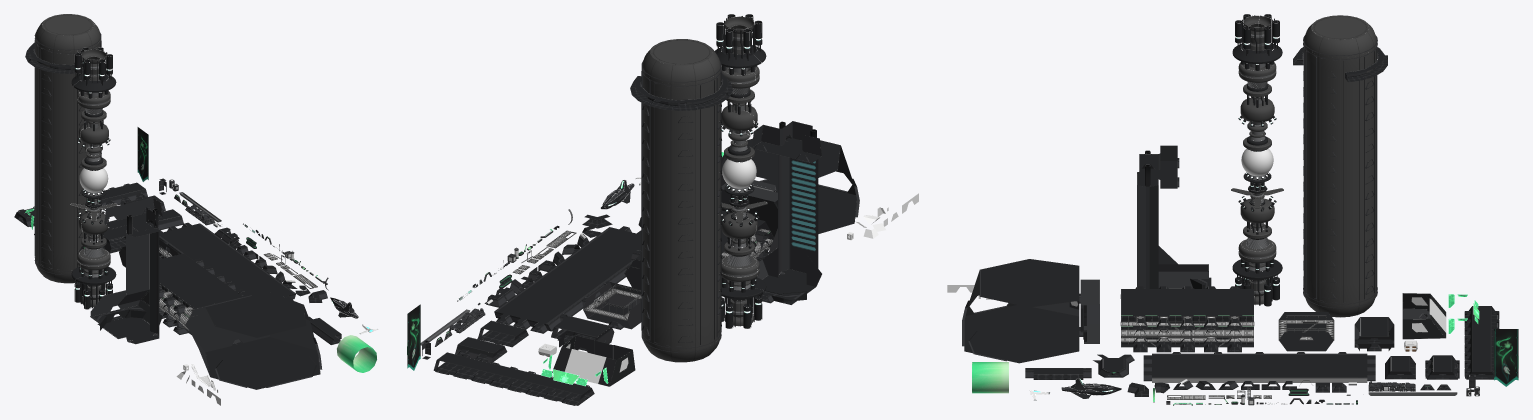
File: ShipEnvironment_Collection.fbx
3 views of the same model, side by side, from view 1: azimuth 30°, elevation 25°; view 2: azimuth 150°, elevation 25°; view 3: azimuth 270°, elevation 25° (orthographic). The views are drawn at different scales.
Parts seen in each view (by area): view 1: ReactorOuterShell.001, LobbyFloor.003, Hangar_Floor, Plane.011, Hangar_Ceiling, Ceiling_Storage, Reactor_Panels.001, Hangar_Wall, Ext_Thrusters.001, Wall_CutoutStorage, Hangar_WallSlants, ReactorCoreShell (+10 smaller); view 2: ReactorOuterShell.001, LobbyFloor.003, Plane.011, Reactor_Panels.001, Bridge_Border, Plane.020, Hangar_Floor, Plane.021, Hall_Circular, Hangar_Ceiling, ReactorCoreShell, WallMaskLobby (+19 smaller); view 3: ReactorOuterShell.001, Plane.011, Hangar_Floor, LobbyFloor.003, Hangar_Ceiling, Ceiling_Storage, Reactor_Panels.001, Wall_CutoutStorage, WallMaskLobby, Plane.021, Ext_Thrusters.001, Bridge_Border (+20 smaller).
Part boxes in pixels (left/top/right/bottom): ReactorOuterShell.001: left=35, top=14, right=100, bottom=283; LobbyFloor.003: left=90, top=197, right=162, bottom=344; Hangar_Floor: left=205, top=337, right=320, bottom=389; Plane.011: left=159, top=223, right=295, bottom=296; Hangar_Ceiling: left=205, top=291, right=306, bottom=337; Ceiling_Storage: left=159, top=253, right=242, bottom=308; Reactor_Panels.001: left=34, top=40, right=101, bottom=270; Hangar_Wall: left=191, top=307, right=269, bottom=352; Ext_Thrusters.001: left=337, top=335, right=376, bottom=372; Wall_CutoutStorage: left=159, top=258, right=244, bottom=334; Hangar_WallSlants: left=191, top=305, right=316, bottom=375; ReactorCoreShell: left=79, top=168, right=108, bottom=192; ReactorOuterShell.001: left=642, top=39, right=720, bottom=362; LobbyFloor.003: left=752, top=121, right=821, bottom=304; Plane.011: left=494, top=227, right=641, bottom=324; Reactor_Panels.001: left=641, top=70, right=721, bottom=346; Bridge_Border: left=552, top=336, right=635, bottom=386; Plane.020: left=434, top=362, right=589, bottom=405; Hangar_Floor: left=763, top=180, right=856, bottom=233; Plane.021: left=437, top=352, right=590, bottom=394; Hall_Circular: left=630, top=73, right=732, bottom=110; Hangar_Ceiling: left=721, top=138, right=840, bottom=181; ReactorCoreShell: left=722, top=159, right=756, bottom=188; WallMaskLobby: left=407, top=304, right=420, bottom=370; ReactorOuterShell.001: left=1303, top=15, right=1377, bottom=317; Plane.011: left=1152, top=353, right=1367, bottom=378; Hangar_Floor: left=964, top=305, right=1079, bottom=363; LobbyFloor.003: left=1137, top=145, right=1211, bottom=288; Hangar_Ceiling: left=979, top=259, right=1079, bottom=307; Ceiling_Storage: left=1121, top=289, right=1253, bottom=315; Reactor_Panels.001: left=1303, top=48, right=1376, bottom=302; Wall_CutoutStorage: left=1121, top=286, right=1253, bottom=352; WallMaskLobby: left=1494, top=329, right=1518, bottom=386; Plane.021: left=1472, top=306, right=1491, bottom=371; Ext_Thrusters.001: left=972, top=362, right=1008, bottom=393; Bridge_Border: left=1402, top=293, right=1446, bottom=339.
Size of the model in its own units: 13791 by 15522 by 27553.
